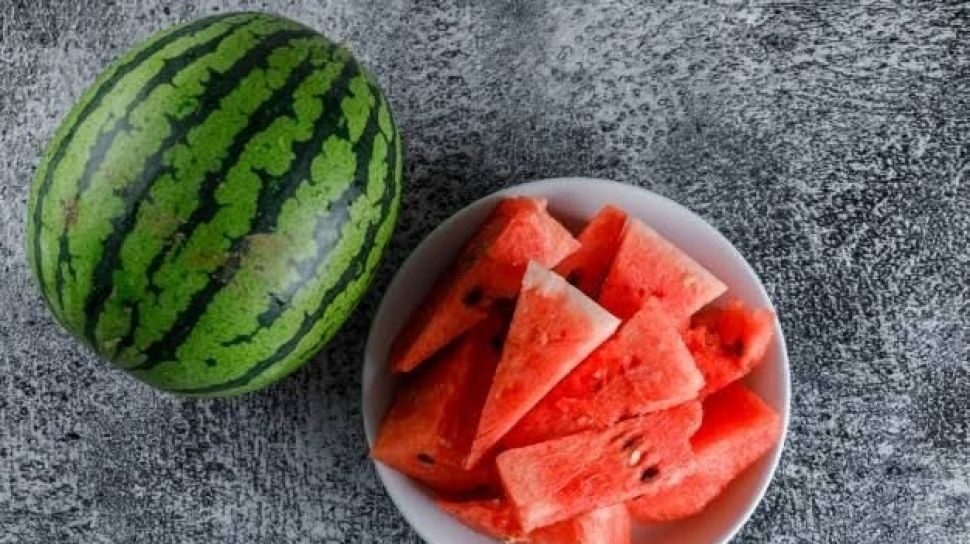Semangka: (453, 248, 597, 466), (407, 173, 557, 367), (521, 326, 701, 441), (593, 205, 715, 307)
